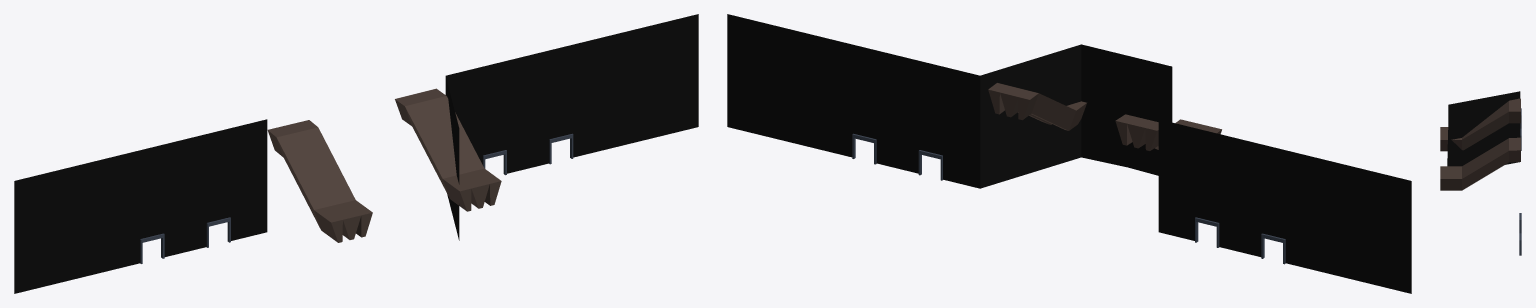
The model's file is main lobby.fbx.
The picture shows the model from 3 angles, left to right: view 1: azimuth 30°, elevation 25°; view 2: azimuth 150°, elevation 25°; view 3: azimuth 270°, elevation 25°; orthographic projection. The views are drawn at different scales.
Parts seen in each view (by area): view 1: Background Lobby; view 2: Background Lobby; view 3: Background Lobby.
Boxes of the visible parts, box(x1,y1,x2,y2) form: Background Lobby: box(14, 14, 698, 293); Background Lobby: box(727, 14, 1411, 293); Background Lobby: box(1440, 91, 1521, 255).
Bounding box in the file's own units: 5863 × 928 × 961.
